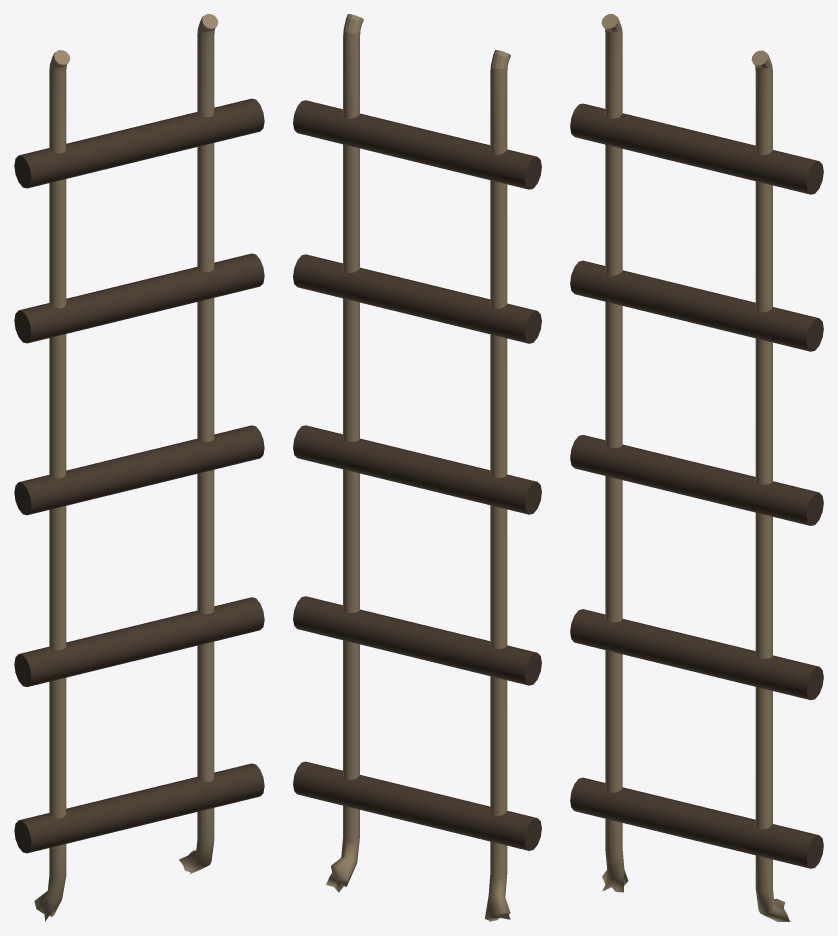
File: Hub_Ladder.fbx
3 renders of one model, left to right at view 1: azimuth 30°, elevation 25°; view 2: azimuth 150°, elevation 25°; view 3: azimuth 330°, elevation 25°, orthographic.
Visible parts, largest first — view 1: Hub_Ladder_middle, Hub_Ladder_top, Hub_Ladder_bot; view 2: Hub_Ladder_middle, Hub_Ladder_top, Hub_Ladder_bot; view 3: Hub_Ladder_middle, Hub_Ladder_top, Hub_Ladder_bot.
Part boxes in pixels (x1,y1,x2,y2): Hub_Ladder_middle: [14, 253, 264, 818]; Hub_Ladder_top: [14, 14, 264, 308]; Hub_Ladder_bot: [14, 763, 264, 921]; Hub_Ladder_middle: [293, 254, 541, 815]; Hub_Ladder_top: [293, 14, 541, 308]; Hub_Ladder_bot: [293, 761, 541, 921]; Hub_Ladder_middle: [570, 260, 823, 829]; Hub_Ladder_top: [570, 14, 823, 312]; Hub_Ladder_bot: [570, 777, 823, 921].
Bounding box in the file's own units: 0.1126 × 0.63 × 2.25.
